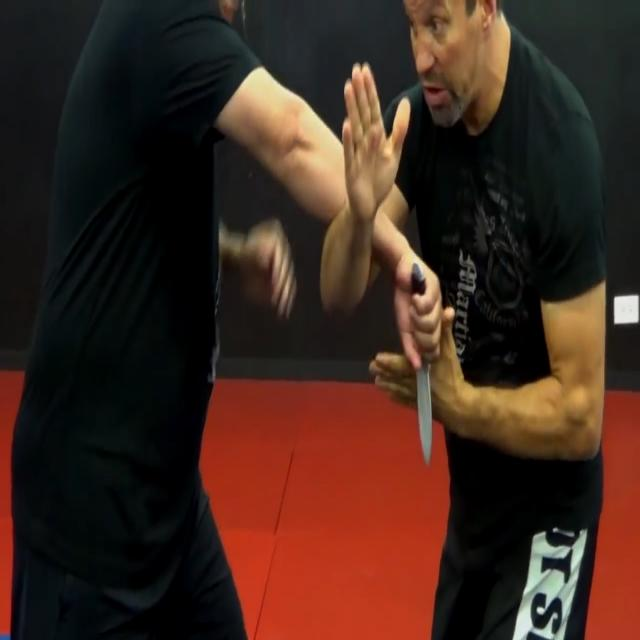knife: (416, 352, 439, 466)
